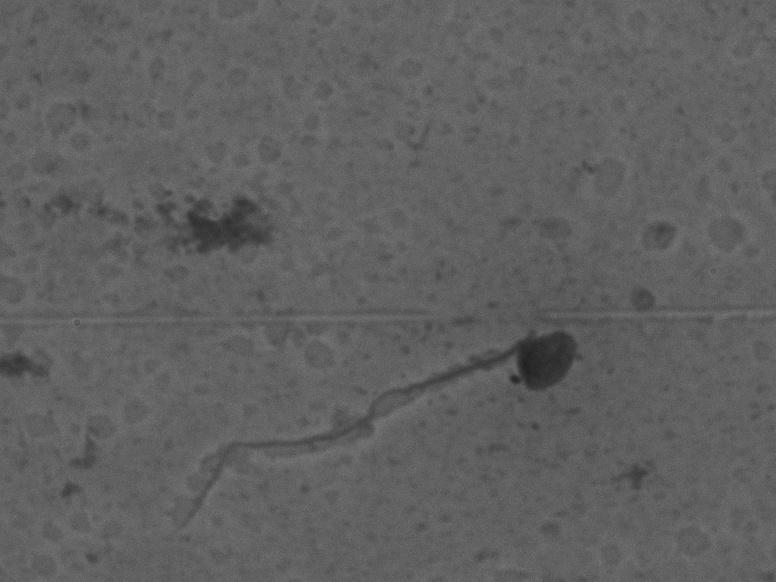Abnormal: (144, 312, 603, 536)
